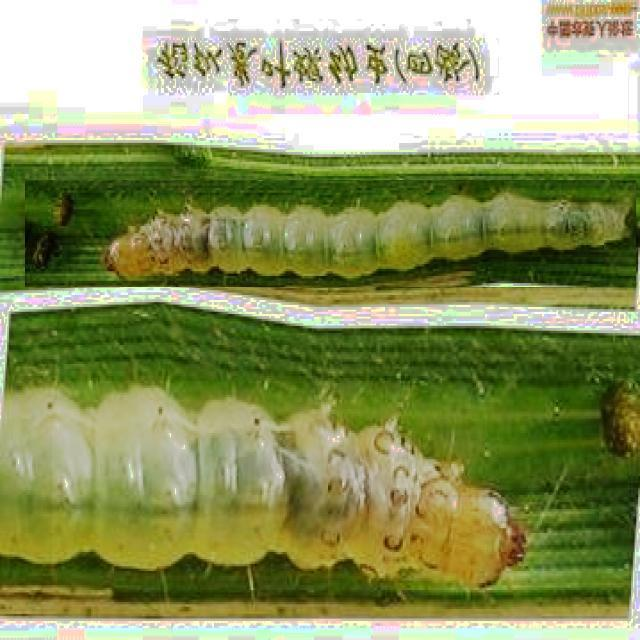leaf-folder: (52, 381, 558, 596), (25, 180, 636, 287)
